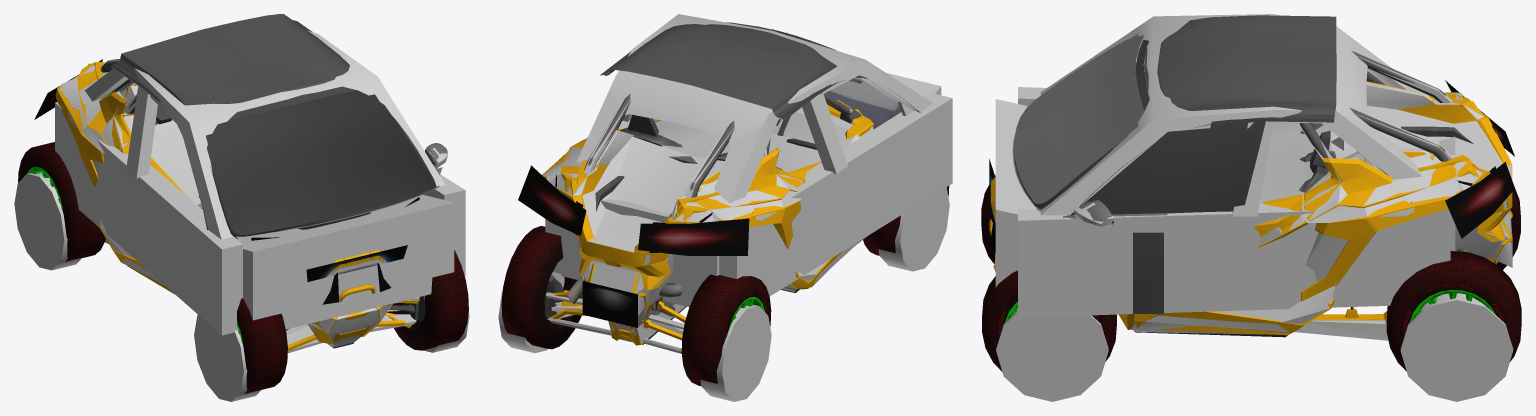
File: P_car-030_Blade-R.fbx
3 renders of one model, left to right at view 1: azimuth 30°, elevation 25°; view 2: azimuth 150°, elevation 25°; view 3: azimuth 270°, elevation 25°, orthographic. The views are drawn at different scales.
Visible parts, largest first — view 1: M_Car-Interior_Shadowform_01, M_Car-Interior_Glass_01, M_Car-Interior_Details_01, M_Car_050_Shadowform_Blade-R_01 (1), M_CarWheel-001_AP (1) (×2), M_CarWheel-001_AP_01 (1) (×2), M_Car_050_Body_Blade-R_02, M_Car_050_Body_Blade-R_01, M_Car_050_FrontFlares_Blade-R_01, M_Car_050_Susp_Blade-R_FL; view 2: M_Car-Interior_Shadowform_01, M_Car_050_Shadowform_Blade-R_01 (1), M_Car-Interior_Details_01, M_CarWheel-001_AP_01 (1) (×3), M_Car_050_Body_Blade-R_02, M_Car_050_BackFlaresBrake_Blade-R_01 (1), M_CarWheel-001_AP (1) (×2), M_Car_050_Body_Blade-R_01, M_Car_050_Details_Blade-R_01, M_Car_050_BackFlares_Blade-R_01, M_Car_050_Interior_Blade-R_01, M_Car_050_Susp_Blade-R_RR_01 (1) (+1 smaller); view 3: M_Car-Interior_Shadowform_01, M_Car_050_Shadowform_Blade-R_01 (1), M_Car-Interior_Glass_01, M_Car-Interior_Details_01, M_Car_050_Body_Blade-R_02, M_CarWheel-001_AP_01 (1) (×3), M_Car_050_Body_Blade-R_01, M_CarWheel-001_AP (1) (×3), M_Car_050_Details_Blade-R_01, M_Car_050_BackFlaresBrake_Blade-R_01 (1), M_Car_050_Interior_Blade-R_01, M_Car_050_Susp_Blade-R_ML_01 (1).
Part boxes in pixels (x1,y1,x2,y2): M_Car-Interior_Shadowform_01: (55, 30, 465, 335); M_Car-Interior_Glass_01: (206, 90, 431, 234); M_Car-Interior_Details_01: (110, 14, 447, 238); M_Car_050_Shadowform_Blade-R_01 (1): (14, 59, 469, 401); M_CarWheel-001_AP (1) (×2): (47, 155, 287, 393); M_CarWheel-001_AP_01 (1) (×2): (18, 142, 468, 350); M_Car_050_Body_Blade-R_02: (56, 62, 391, 344); M_Car_050_Body_Blade-R_01: (77, 65, 383, 274); M_Car_050_FrontFlares_Blade-R_01: (251, 197, 419, 304); M_Car_050_Susp_Blade-R_FL: (389, 295, 425, 321); M_Car-Interior_Shadowform_01: (545, 14, 952, 307); M_Car_050_Shadowform_Blade-R_01 (1): (498, 99, 949, 401); M_Car-Interior_Details_01: (600, 22, 920, 129); M_CarWheel-001_AP_01 (1) (×3): (525, 215, 900, 386); M_Car_050_Body_Blade-R_02: (542, 104, 862, 345); M_Car_050_BackFlaresBrake_Blade-R_01 (1): (518, 165, 749, 255); M_CarWheel-001_AP (1) (×2): (501, 235, 771, 349); M_Car_050_Body_Blade-R_01: (561, 100, 873, 220); M_Car_050_Details_Blade-R_01: (566, 93, 861, 344); M_Car_050_BackFlares_Blade-R_01: (555, 164, 752, 327); M_Car_050_Interior_Blade-R_01: (619, 114, 817, 170); M_Car_050_Susp_Blade-R_RR_01 (1): (643, 301, 686, 340); M_Car-Interior_Shadowform_01: (995, 14, 1455, 317); M_Car_050_Shadowform_Blade-R_01 (1): (993, 55, 1513, 401); M_Car-Interior_Glass_01: (1014, 35, 1266, 214); M_Car-Interior_Details_01: (1012, 15, 1336, 313); M_Car_050_Body_Blade-R_02: (989, 81, 1512, 335); M_CarWheel-001_AP_01 (1) (×3): (982, 188, 1520, 371); M_Car_050_Body_Blade-R_01: (991, 93, 1478, 248); M_CarWheel-001_AP (1) (×3): (981, 175, 1521, 361); M_Car_050_Details_Blade-R_01: (1134, 50, 1473, 337); M_Car_050_BackFlaresBrake_Blade-R_01 (1): (1445, 80, 1514, 238); M_Car_050_Interior_Blade-R_01: (1298, 123, 1335, 192); M_Car_050_Susp_Blade-R_ML_01 (1): (1313, 308, 1386, 320).
Size of the model in its own units: 1.54 by 1.41 by 2.44.
